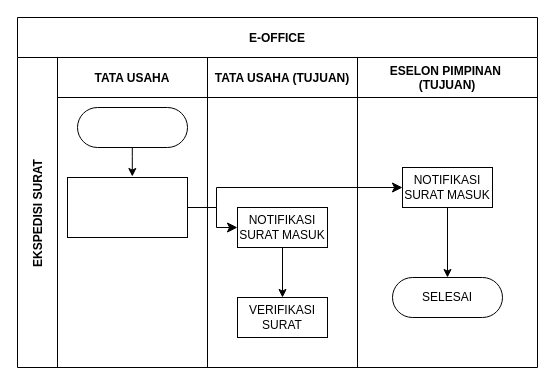
Some shapes in this 555 by 385 pixel diagram are drawn without their labels. Each missing label, with the box of its shape:
MULAI: (76, 106, 188, 148)
PILIH SURAT KELUAR & TUJUAN DISPOSISI: (66, 176, 188, 238)
